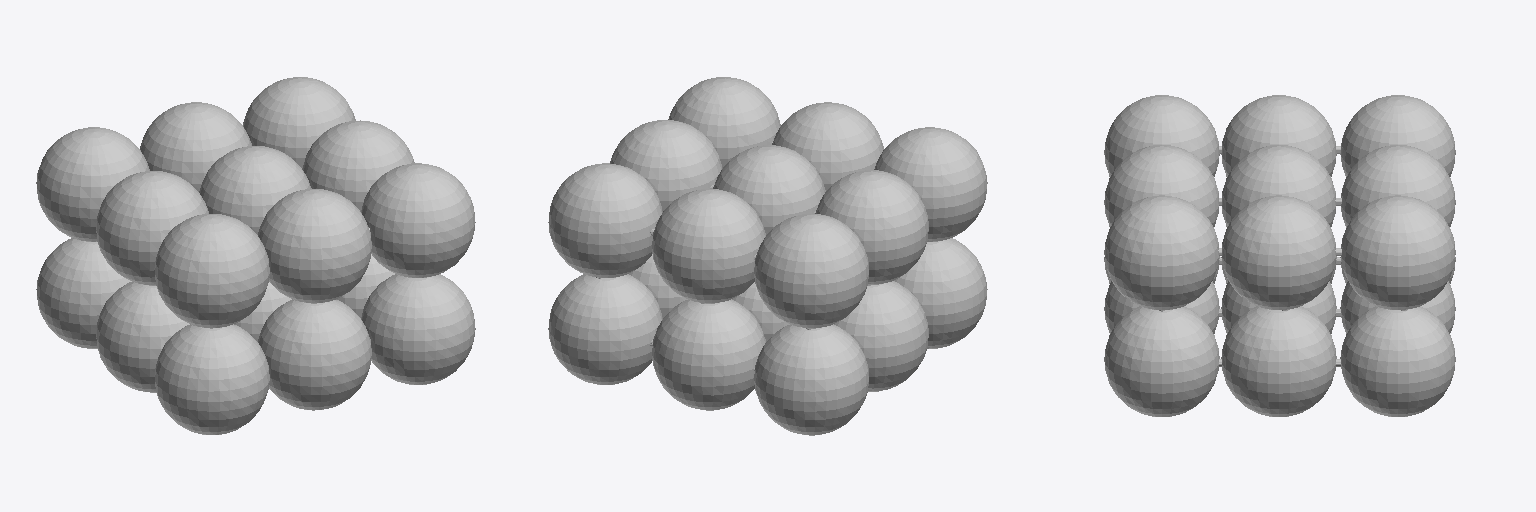
The model's file is empaquetamiento simple.obj.
3 views of the same model, side by side, from view 1: azimuth 30°, elevation 25°; view 2: azimuth 150°, elevation 25°; view 3: azimuth 270°, elevation 25° (orthographic).
Parts seen in each view (by area): view 1: Sphere.268_Sphere.022, Sphere.262_Sphere.020, Sphere.241_Sphere.008, Sphere.267_Sphere.021, Sphere.238_Sphere.001, Sphere.261_Sphere.019, Sphere.285_Sphere.183, Sphere.277_Sphere.058, Sphere.283_Sphere.181, Sphere.275_Sphere.032, Sphere.253_Sphere.155, Sphere.284_Sphere.182 (+4 smaller); view 2: Sphere.285_Sphere.183, Sphere.283_Sphere.181, Sphere.253_Sphere.155, Sphere.284_Sphere.182, Sphere.251_Sphere.154, Sphere.282_Sphere.179, Sphere.277_Sphere.058, Sphere.268_Sphere.022, Sphere.275_Sphere.032, Sphere.262_Sphere.020, Sphere.252_Sphere.017, Sphere.276_Sphere.057 (+4 smaller); view 3: Sphere.241_Sphere.008, Sphere.252_Sphere.017, Sphere.253_Sphere.155, Sphere.251_Sphere.154, Sphere.248_Sphere.015, Sphere.238_Sphere.001, Sphere.267_Sphere.021, Sphere.276_Sphere.057, Sphere.284_Sphere.182, Sphere.268_Sphere.022, Sphere.277_Sphere.058, Sphere.285_Sphere.183 (+3 smaller).
Boxes of the visible parts, box(x1,y1,x2,y2) form: Sphere.268_Sphere.022: box(154, 214, 269, 328); Sphere.262_Sphere.020: box(154, 324, 269, 434); Sphere.241_Sphere.008: box(361, 163, 475, 277); Sphere.267_Sphere.021: box(258, 189, 371, 303); Sphere.238_Sphere.001: box(361, 274, 475, 384); Sphere.261_Sphere.019: box(258, 299, 371, 410); Sphere.285_Sphere.183: box(36, 127, 149, 241); Sphere.277_Sphere.058: box(96, 171, 208, 285); Sphere.283_Sphere.181: box(36, 238, 131, 348); Sphere.275_Sphere.032: box(96, 282, 189, 392); Sphere.253_Sphere.155: box(243, 77, 355, 169); Sphere.284_Sphere.182: box(140, 102, 251, 191); Sphere.285_Sphere.183: box(754, 214, 868, 328); Sphere.283_Sphere.181: box(754, 324, 868, 435); Sphere.253_Sphere.155: box(548, 163, 662, 277); Sphere.284_Sphere.182: box(652, 189, 765, 303); Sphere.251_Sphere.154: box(548, 274, 662, 384); Sphere.282_Sphere.179: box(652, 299, 765, 410); Sphere.277_Sphere.058: box(815, 170, 928, 284); Sphere.268_Sphere.022: box(874, 127, 987, 241); Sphere.275_Sphere.032: box(834, 281, 928, 391); Sphere.262_Sphere.020: box(894, 238, 987, 348); Sphere.252_Sphere.017: box(610, 120, 721, 210); Sphere.276_Sphere.057: box(713, 145, 825, 234); Sphere.241_Sphere.008: box(1104, 195, 1218, 309); Sphere.252_Sphere.017: box(1222, 195, 1335, 309); Sphere.253_Sphere.155: box(1341, 195, 1455, 309); Sphere.251_Sphere.154: box(1340, 306, 1455, 416); Sphere.248_Sphere.015: box(1221, 306, 1336, 416); Sphere.238_Sphere.001: box(1104, 306, 1219, 416); Sphere.267_Sphere.021: box(1104, 145, 1218, 226); Sphere.276_Sphere.057: box(1222, 145, 1335, 226); Sphere.284_Sphere.182: box(1341, 145, 1455, 227); Sphere.268_Sphere.022: box(1104, 95, 1219, 176); Sphere.277_Sphere.058: box(1221, 95, 1336, 176); Sphere.285_Sphere.183: box(1340, 95, 1455, 176).
Bounding box in the file's own units: 1.47 × 0.97 × 1.46.